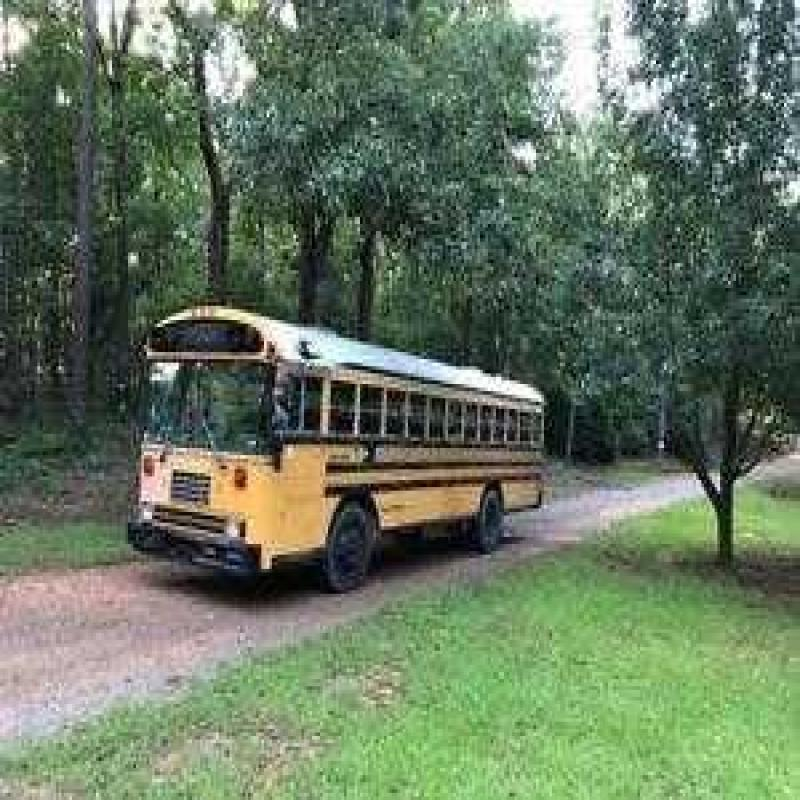bus: (99, 238, 588, 618)
